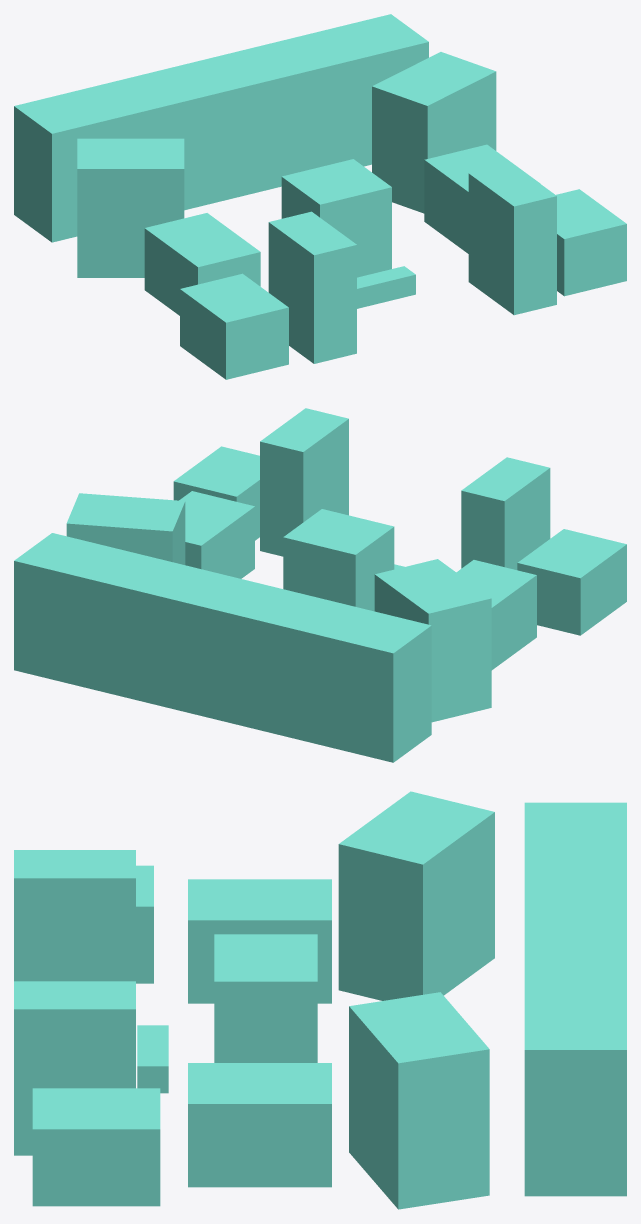
Rendered from stand station colliders.glb.
3 renders of one model, top to bottom at view 1: azimuth 30°, elevation 25°; view 2: azimuth 150°, elevation 25°; view 3: azimuth 270°, elevation 25°, orthographic. The views are drawn at different scales.
Visible parts, largest first — view 1: station Collider.5, station Collider.3, station Collider.4, station Collider.9, station Collider.10, station Collider.7, station Collider, station Collider.2, station Collider.6, station Collider.1, station Collider.8; view 2: station Collider.5, station Collider.4, station Collider.9, station Collider, station Collider.10, station Collider.7, station Collider.3, station Collider.1, station Collider.2, station Collider.6; view 3: station Collider.5, station Collider.4, station Collider.3, station Collider.1, station Collider.10, station Collider.6, station Collider.9, station Collider, station Collider.2, station Collider.7, station Collider.8.
Boxes of the visible parts, box(x1,y1,x2,y2) form: station Collider.5: box(14, 14, 428, 242); station Collider.3: box(372, 52, 496, 213); station Collider.4: box(77, 138, 184, 277); station Collider.9: box(468, 163, 556, 315); station Collider.10: box(268, 211, 356, 363); station Collider.7: box(180, 273, 288, 379); station Collider: box(281, 159, 391, 277); station Collider.2: box(144, 213, 260, 315); station Collider.6: box(556, 189, 626, 296); station Collider.1: box(424, 144, 540, 253); station Collider.8: box(357, 266, 415, 308); station Collider.5: box(14, 533, 431, 762); station Collider.4: box(374, 559, 491, 722); station Collider.9: box(260, 408, 348, 556); station Collider: box(283, 509, 394, 611); station Collider.10: box(461, 457, 550, 569); station Collider.7: box(517, 529, 626, 635); station Collider.3: box(66, 493, 185, 564); station Collider.1: box(179, 491, 254, 578); station Collider.2: box(456, 560, 536, 670); station Collider.6: box(173, 446, 259, 540); station Collider.5: box(524, 802, 626, 1196); station Collider.4: box(338, 791, 494, 1000); station Collider.3: box(349, 992, 489, 1209); station Collider.1: box(188, 1063, 331, 1187); station Collider.10: box(14, 850, 135, 981); station Collider.6: box(32, 1088, 160, 1206); station Collider.9: box(14, 981, 135, 1155); station Collider: box(214, 934, 317, 1062); station Collider.2: box(188, 879, 331, 1003); station Collider.7: box(136, 865, 153, 983); station Collider.8: box(137, 1025, 168, 1093).
Size of the model in its own units: 798 by 200 by 760.
